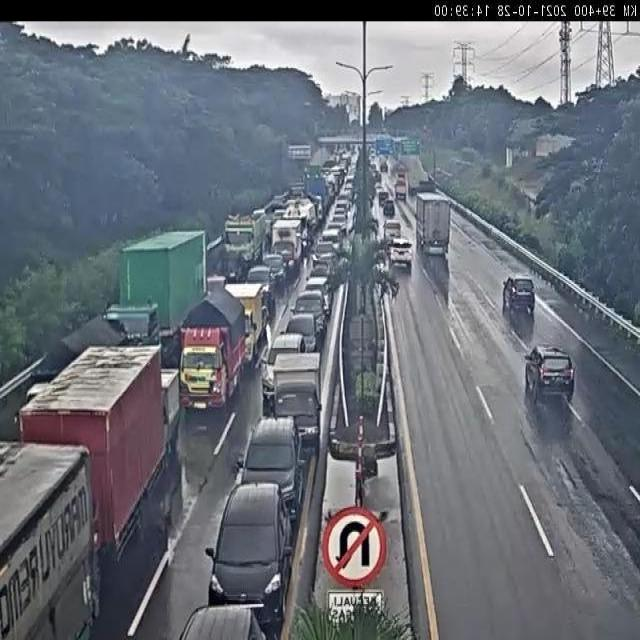Car: (206, 481, 294, 633), (235, 417, 302, 519), (260, 333, 306, 410), (525, 344, 575, 411), (280, 312, 320, 358), (290, 291, 329, 333), (246, 265, 277, 314), (211, 250, 249, 284), (503, 277, 536, 316), (301, 276, 332, 314), (263, 253, 289, 291), (388, 236, 414, 269), (310, 239, 337, 269), (305, 258, 335, 282), (318, 228, 343, 255), (324, 222, 346, 240), (330, 211, 348, 233), (383, 198, 395, 218), (378, 189, 389, 210), (271, 207, 288, 220), (333, 206, 347, 218), (381, 160, 388, 172)
Truck: (17, 340, 168, 566), (0, 435, 97, 640), (102, 226, 210, 350), (23, 314, 131, 406), (173, 283, 247, 411), (269, 350, 324, 447), (222, 279, 266, 366), (222, 208, 266, 273), (414, 191, 450, 256), (270, 216, 306, 276), (159, 366, 181, 453), (282, 197, 317, 246), (302, 175, 326, 226), (407, 169, 421, 195), (395, 178, 407, 200), (374, 172, 382, 188)
Van: (384, 219, 402, 243)
